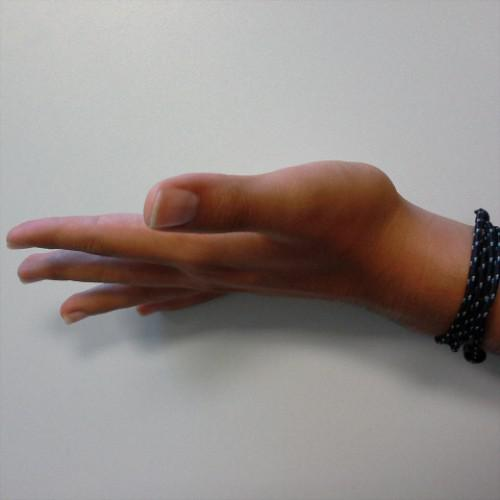paper: (2, 148, 406, 336)
